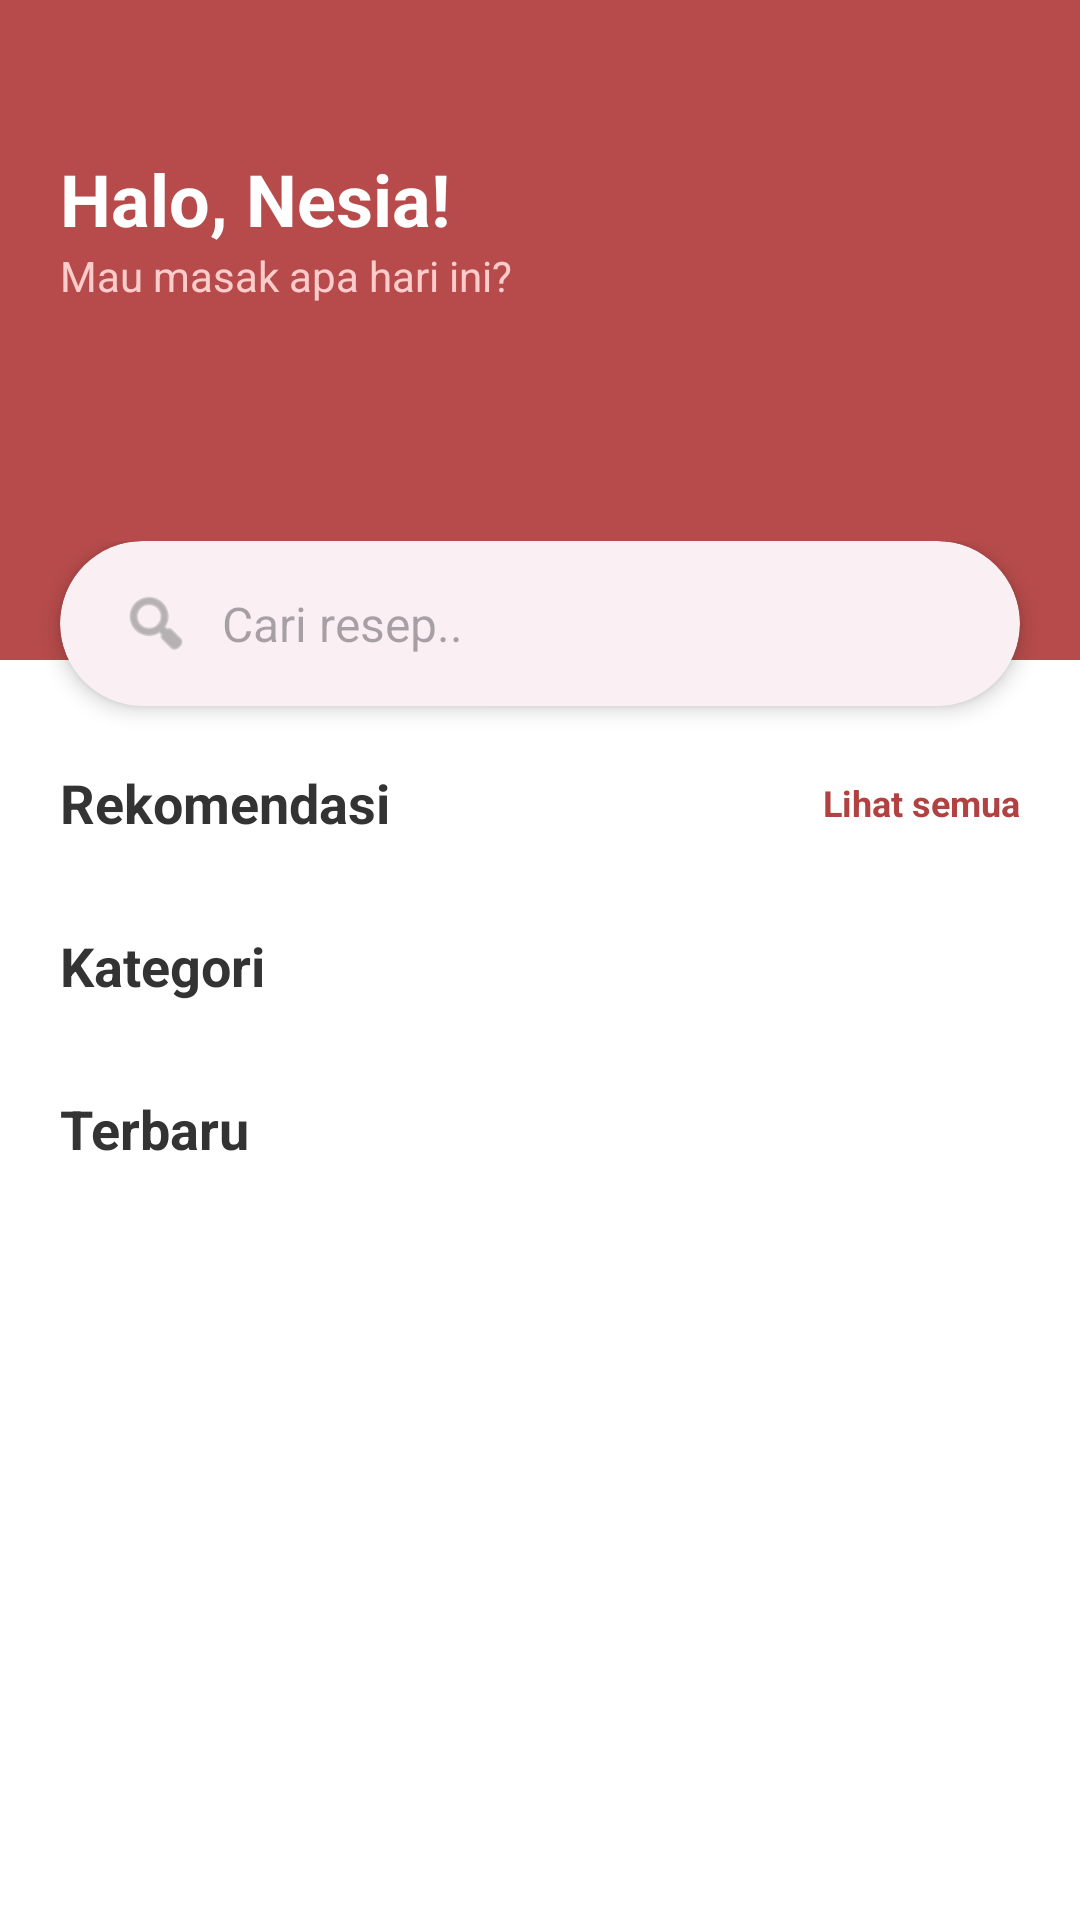

Point at icon controls on the screen. Image size 1080w x 1920h, points as (x,y).
search: (156,623)
